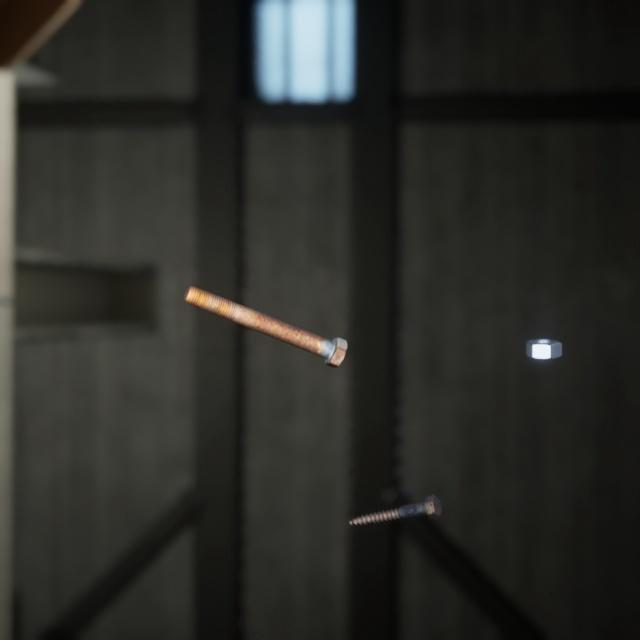bolt: (179, 263, 351, 353), (344, 469, 445, 509)
nut: (521, 316, 566, 345)
